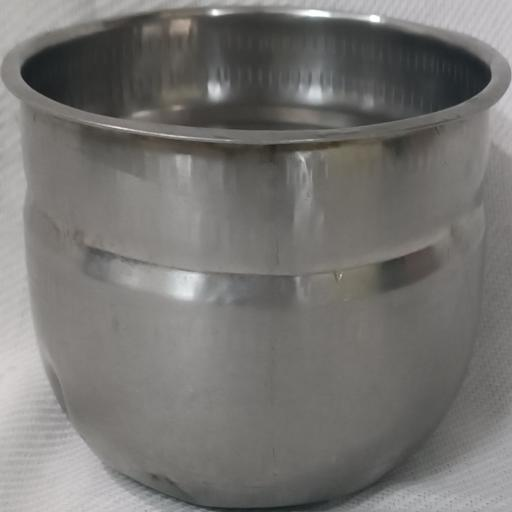vessel: (2, 8, 510, 506)
